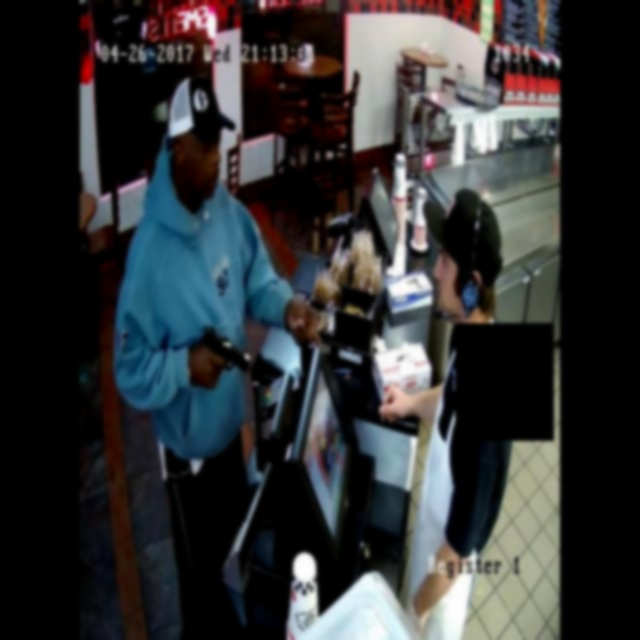gun: (181, 308, 261, 390)
